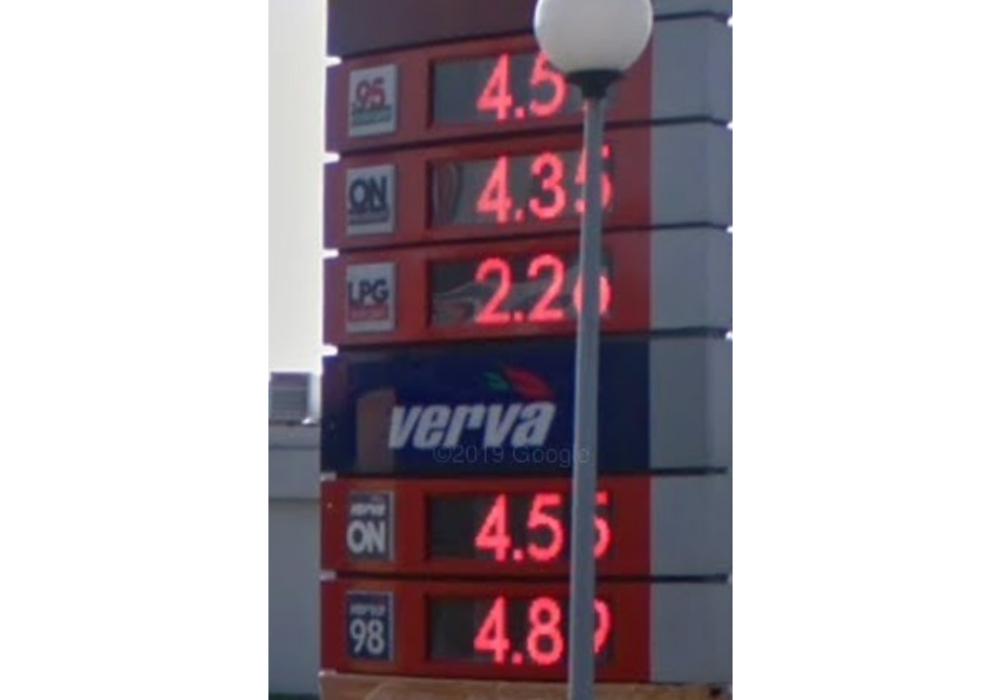LPG: (344, 260, 396, 331)
ON: (343, 164, 395, 238), (342, 489, 394, 558)
PB95: (347, 64, 398, 137)
PB98: (346, 589, 393, 659)
